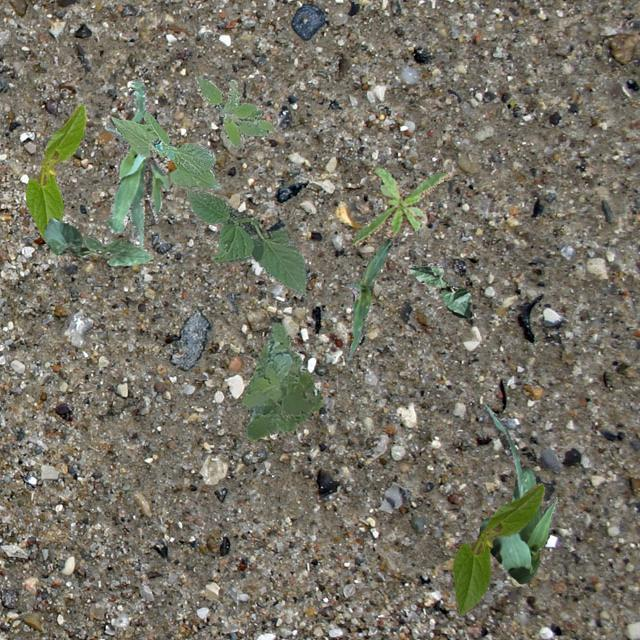crop: (478, 402, 556, 582), (186, 186, 306, 294), (452, 482, 544, 614), (104, 76, 168, 246), (109, 108, 218, 188), (26, 104, 86, 240), (344, 238, 392, 360), (44, 217, 152, 264), (406, 262, 471, 316)
weed: (240, 322, 322, 439), (348, 166, 448, 246), (194, 74, 272, 146)
